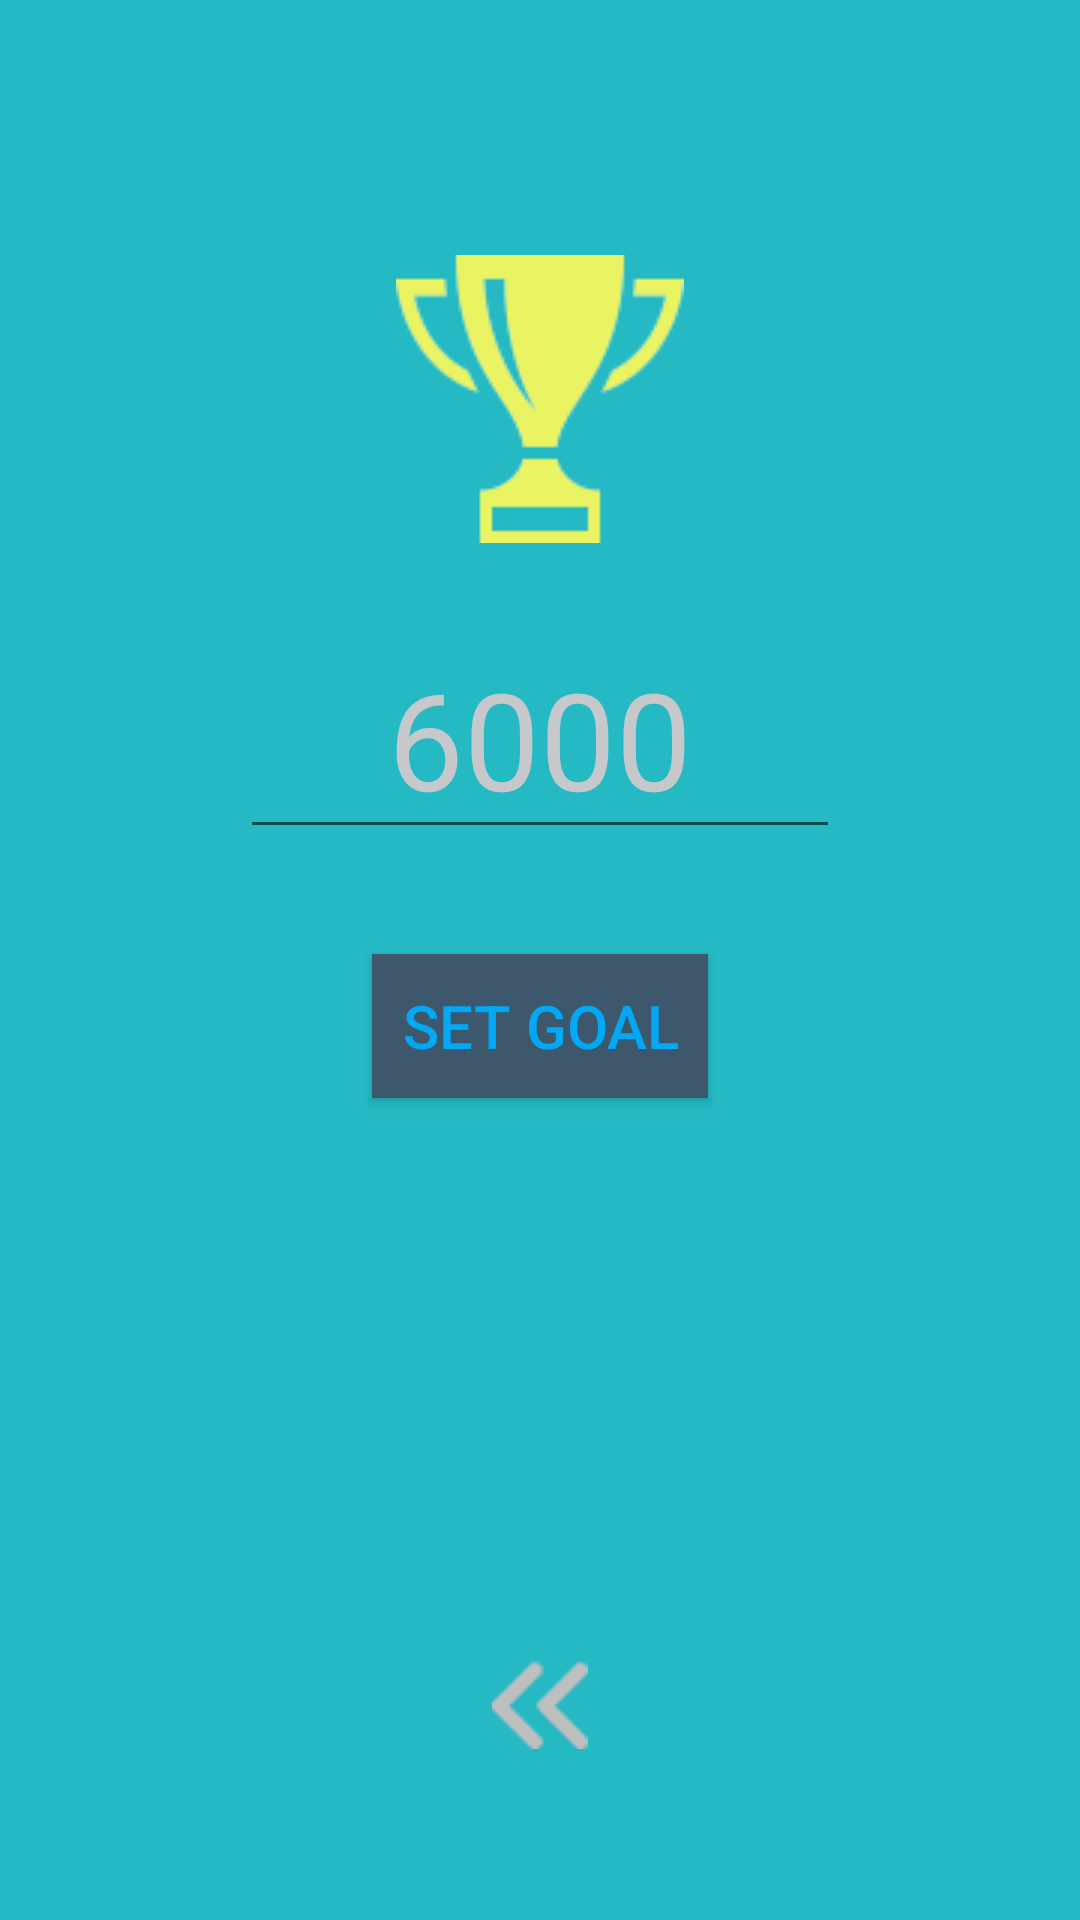

Screen size 1080x1920. Icon name, then its center in pixels as (x=x, y=y):
back: (x=540, y=1705)
cupphoto: (x=540, y=399)
